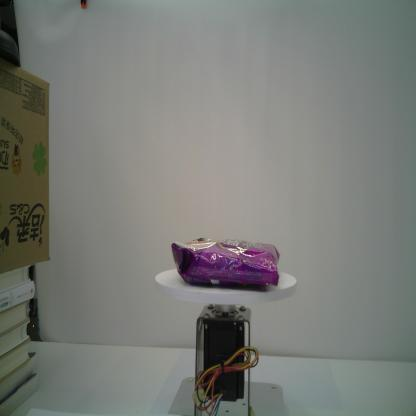Instant Noodles: (171, 237, 281, 289)
